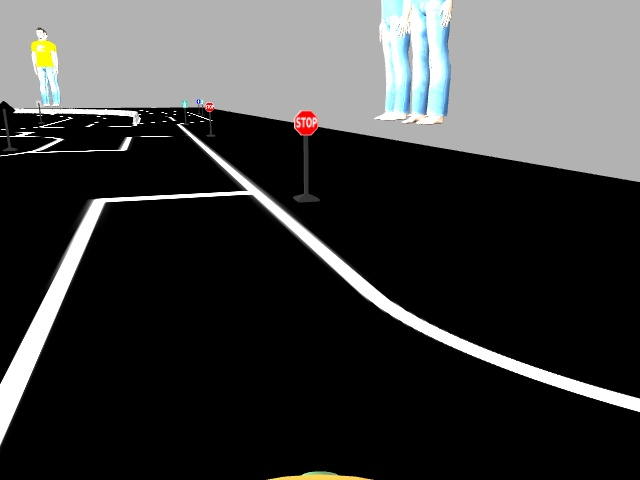Stop: (294, 109, 317, 136), (204, 102, 213, 112)
